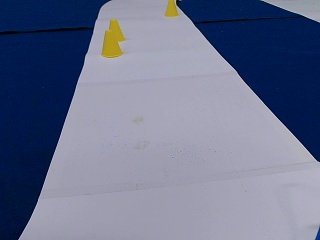cone: (100, 31, 123, 57), (108, 19, 125, 40), (164, 0, 178, 16)
